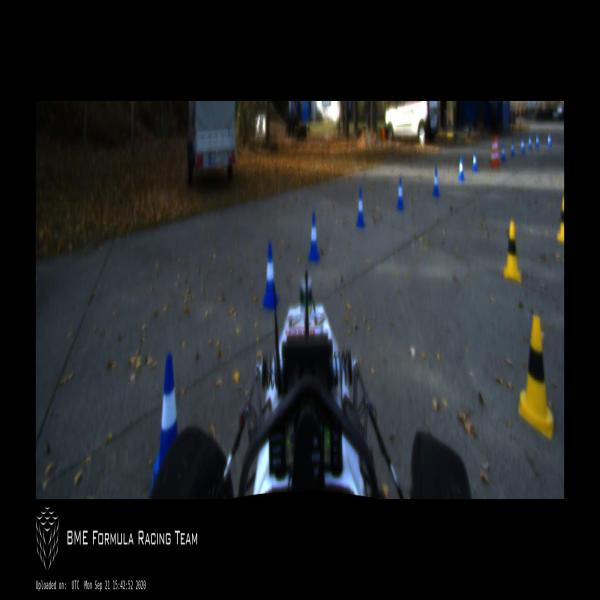blue_cone: (150, 353, 178, 497), (262, 242, 278, 310), (307, 212, 320, 264), (356, 189, 364, 225), (396, 178, 404, 209), (432, 168, 440, 194), (458, 154, 465, 180), (472, 150, 477, 173), (510, 138, 516, 156), (501, 142, 506, 162), (547, 131, 552, 148), (520, 137, 524, 154), (528, 133, 532, 150), (536, 132, 540, 149)
large_orange_cone: (494, 135, 500, 168), (490, 136, 494, 167)
yellow_cone: (516, 313, 556, 438), (503, 221, 521, 281), (556, 196, 564, 244)
